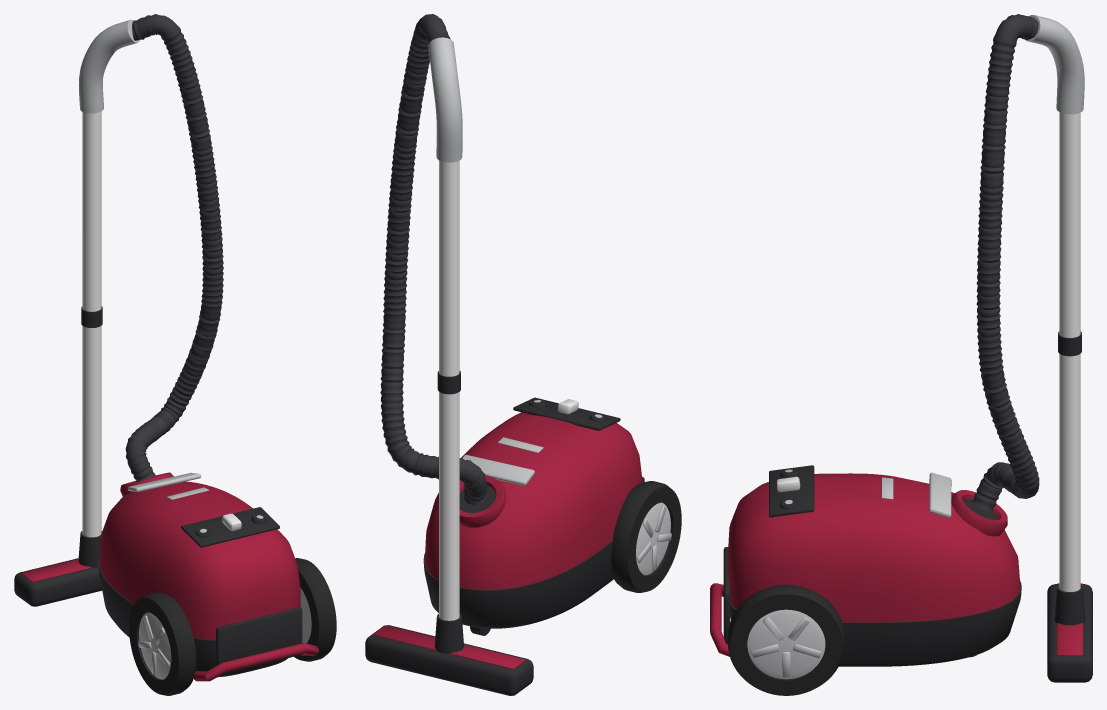
Rendered from recSDhMe1bDSJ7hMq.glb.
3 renders of one model, left to right at view 1: azimuth 30°, elevation 25°; view 2: azimuth 150°, elevation 25°; view 3: azimuth 270°, elevation 25°, orthographic. The views are drawn at different scales.
Visible parts, largest first — view 1: Aspirateur_Corps; view 2: Aspirateur_Corps; view 3: Aspirateur_Corps.
Boxes of the visible parts, <box> form: Aspirateur_Corps: <box>14,14,336,695</box>; Aspirateur_Corps: <box>365,14,681,695</box>; Aspirateur_Corps: <box>710,14,1092,695</box>.
Bounding box in the file's own units: 0.3292 × 1.1 × 0.5869.
